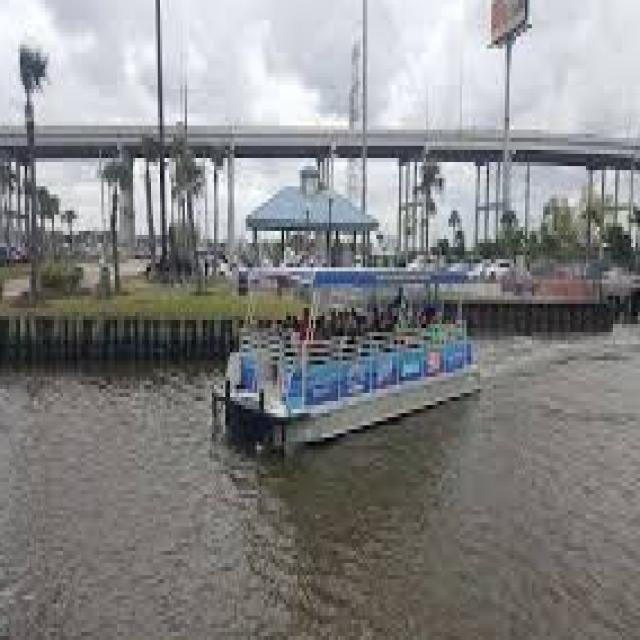passenger ship: (215, 230, 505, 445)
